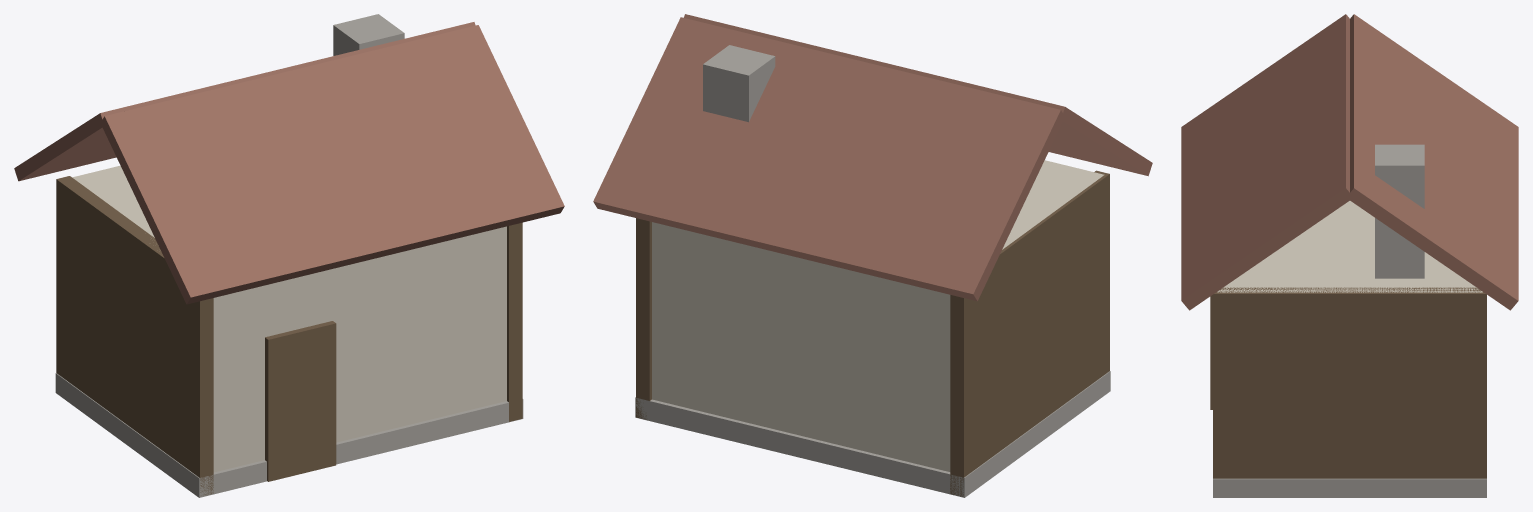
The model's file is house_a.glb.
The picture shows the model from 3 angles, left to right: view 1: azimuth 30°, elevation 25°; view 2: azimuth 150°, elevation 25°; view 3: azimuth 270°, elevation 25°; orthographic projection. The views are drawn at different scales.
Parts seen in each view (by area): view 1: house_a; view 2: house_a; view 3: house_a.
Boxes of the visible parts, bbox=[...] form: house_a: bbox=[14, 14, 564, 497]; house_a: bbox=[593, 14, 1152, 497]; house_a: bbox=[1181, 14, 1518, 497].
Size of the model in its own units: 4.96 by 4.27 by 4.06.
